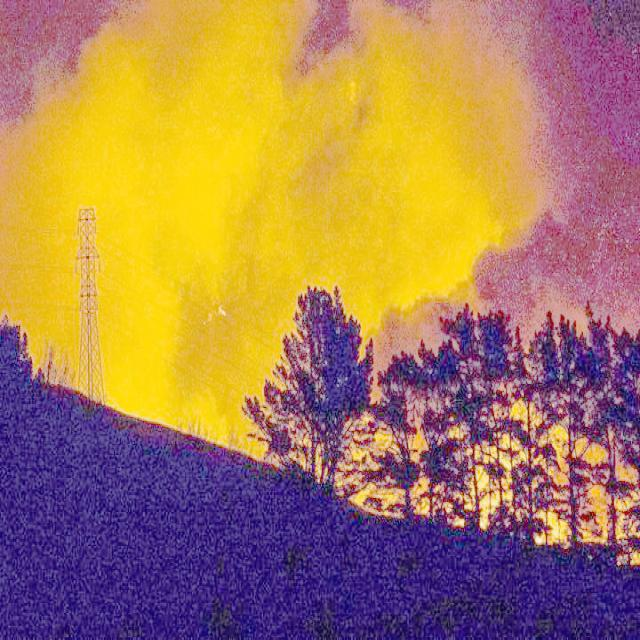asap: (1, 4, 536, 452), (348, 102, 640, 417)
